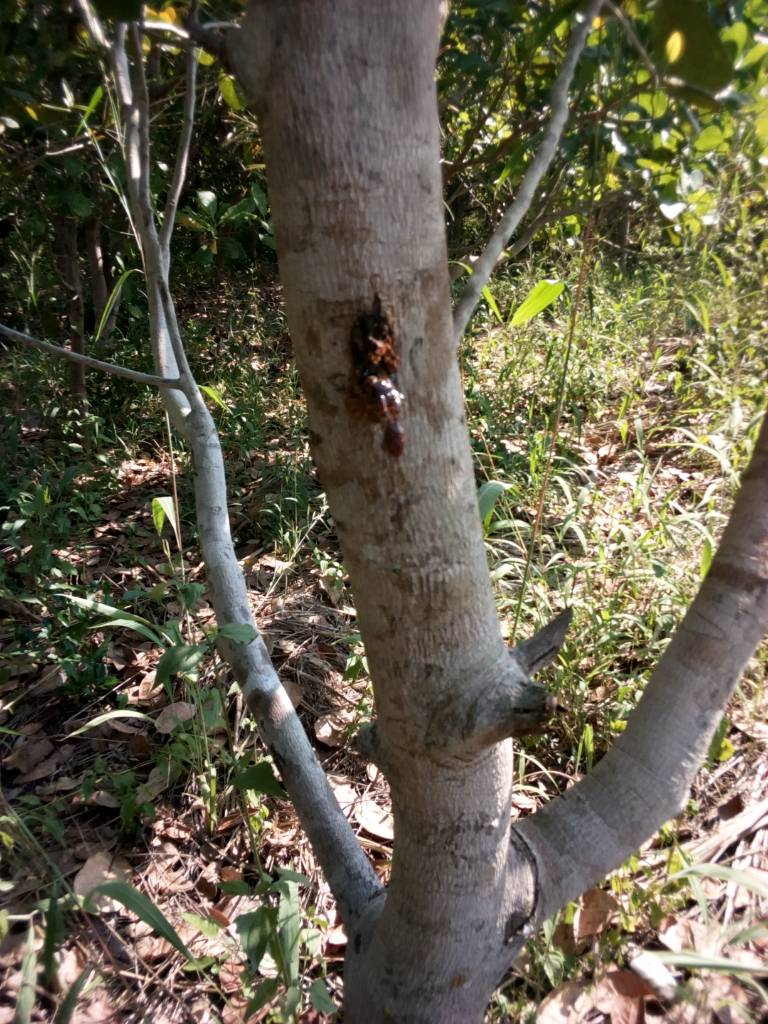Apate terebrans: (321, 296, 454, 452)
